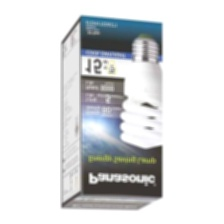carton: (55, 14, 164, 216)
